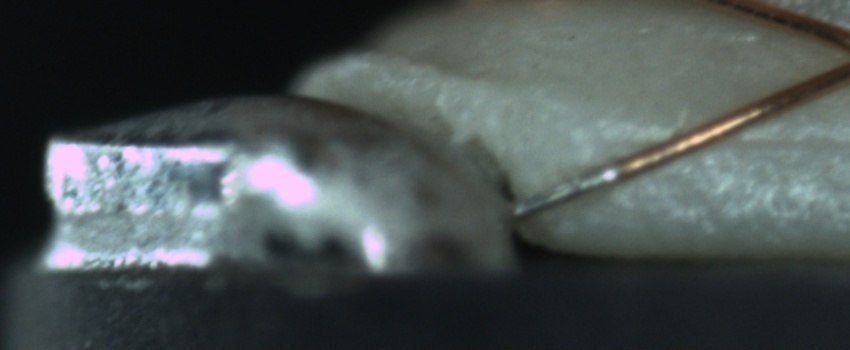CL: (828, 29, 850, 83)
DL: (630, 111, 850, 170)
TS: (506, 160, 616, 220)
